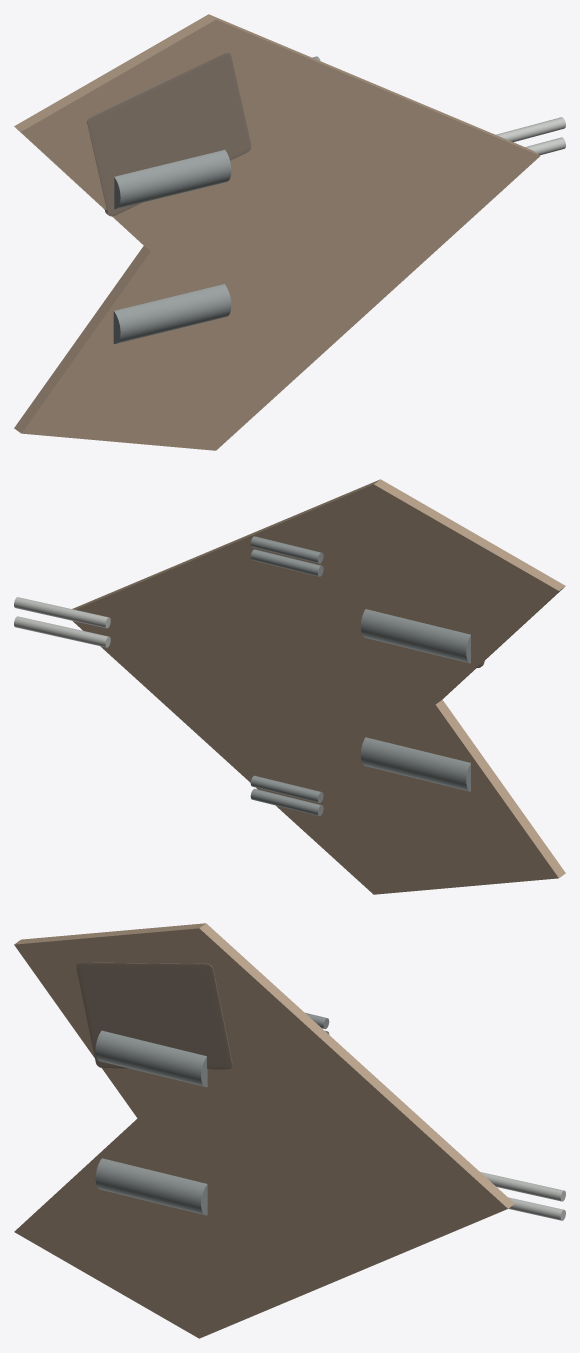
The model's file is d-x06-dominion-reserveStrike-lod2.glb.
The picture shows the model from 3 angles, top to bottom: view 1: azimuth 30°, elevation 25°; view 2: azimuth 150°, elevation 25°; view 3: azimuth 330°, elevation 25°; orthographic projection. The views are drawn at different scales.
Parts seen in each view (by area): view 1: flying_wing_planform, flying_wing_elevon_1, flying_wing_engine_0, flying_wing_engine_1, flying_wing_gun_barrel_1; view 2: flying_wing_planform, flying_wing_engine_1, flying_wing_engine_0, flying_wing_gun_barrel_1, flying_wing_gun_barrel_0, flying_wing_1_tube_2, flying_wing_-1_tube_1, flying_wing_1_tube_1, flying_wing_-1_tube_2; view 3: flying_wing_planform, flying_wing_elevon_1, flying_wing_engine_0, flying_wing_engine_1, flying_wing_gun_barrel_1, flying_wing_gun_barrel_0.
Part boxes in pixels (box(x1,y1,x2,y2)): flying_wing_planform: box(14, 14, 539, 450); flying_wing_elevon_1: box(87, 52, 251, 216); flying_wing_engine_0: box(113, 284, 231, 343); flying_wing_engine_1: box(114, 150, 231, 209); flying_wing_gun_barrel_1: box(496, 117, 565, 142); flying_wing_planform: box(72, 479, 565, 894); flying_wing_engine_1: box(360, 609, 470, 663); flying_wing_engine_0: box(360, 737, 470, 791); flying_wing_gun_barrel_1: box(14, 597, 110, 628); flying_wing_gun_barrel_0: box(14, 616, 110, 647); flying_wing_1_tube_2: box(250, 536, 323, 563); flying_wing_-1_tube_1: box(250, 788, 323, 816); flying_wing_1_tube_1: box(250, 549, 323, 576); flying_wing_-1_tube_2: box(250, 775, 323, 802); flying_wing_planform: box(14, 923, 514, 1338); flying_wing_elevon_1: box(76, 962, 232, 1069); flying_wing_engine_0: box(95, 1158, 207, 1215); flying_wing_engine_1: box(95, 1030, 207, 1087); flying_wing_gun_barrel_1: box(480, 1172, 565, 1201); flying_wing_gun_barrel_0: box(508, 1197, 565, 1220).
Size of what is drawn, in the model's own units: 16.19 by 11.92 by 1.38.
